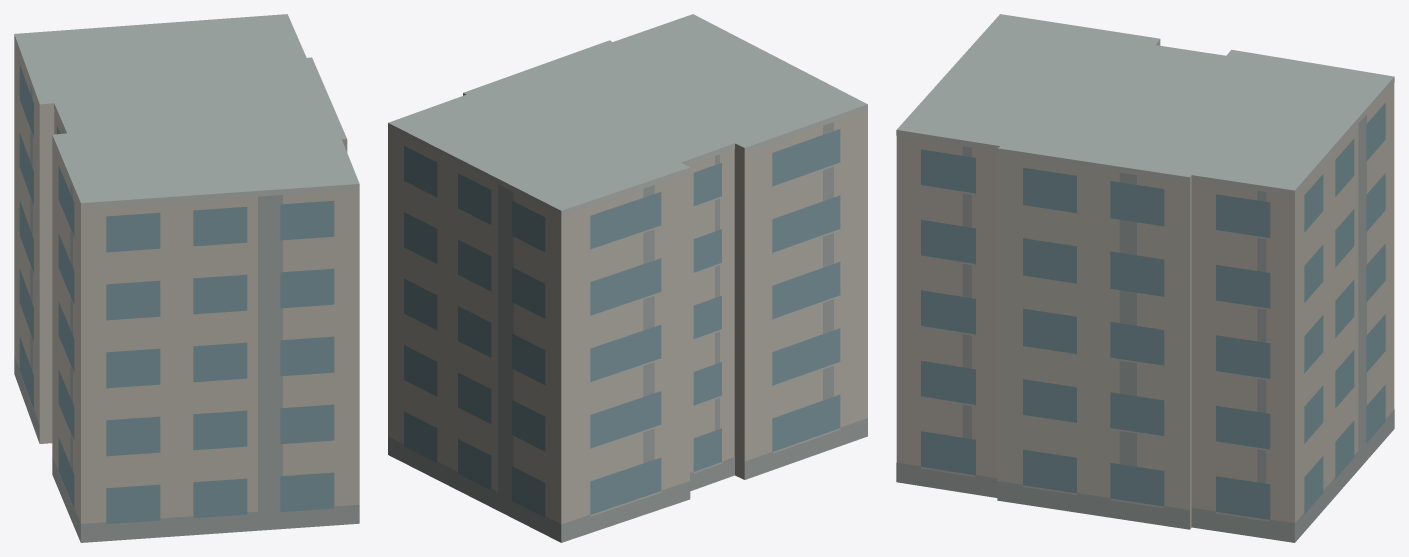
Rendered from survey-upis-32888275.glb.
3 renders of one model, left to right at view 1: azimuth 30°, elevation 25°; view 2: azimuth 150°, elevation 25°; view 3: azimuth 270°, elevation 25°, orthographic. The views are drawn at different scales.
Parts seen in each view (by area): view 1: survey-upis-32888275.tmp; view 2: survey-upis-32888275.tmp; view 3: survey-upis-32888275.tmp.
Boxes of the visible parts, bbox=[...] form: survey-upis-32888275.tmp: bbox=[14, 14, 359, 542]; survey-upis-32888275.tmp: bbox=[388, 14, 867, 542]; survey-upis-32888275.tmp: bbox=[896, 14, 1394, 542].
Bounding box in the file's own units: 15.59 × 14.5 × 18.58.
